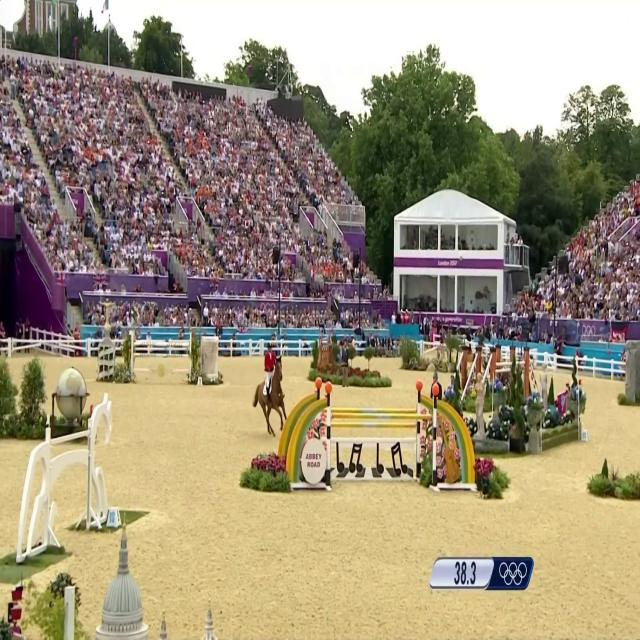Horse Running: (247, 358, 294, 450)
